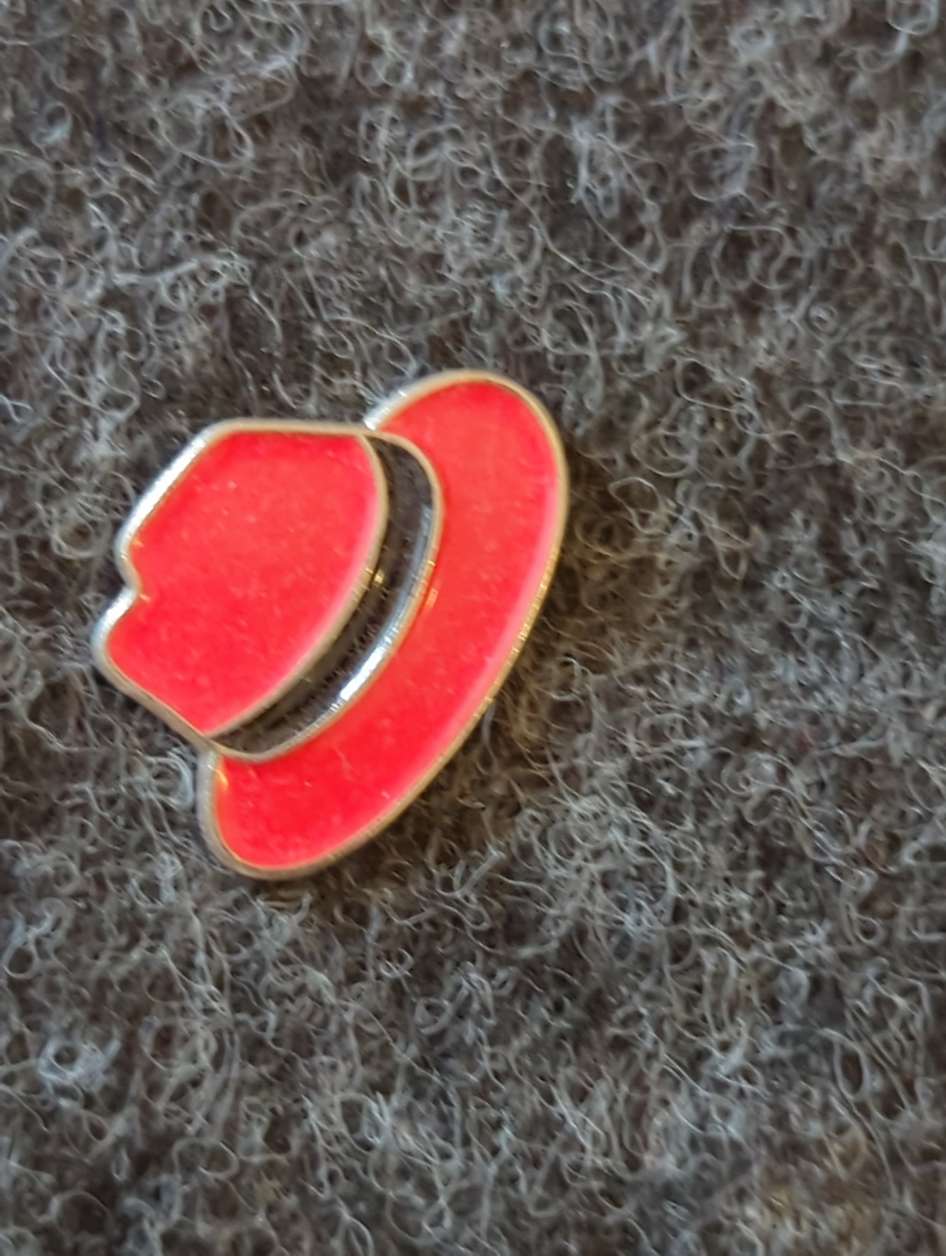Red-Hat: (7, 279, 765, 977)
